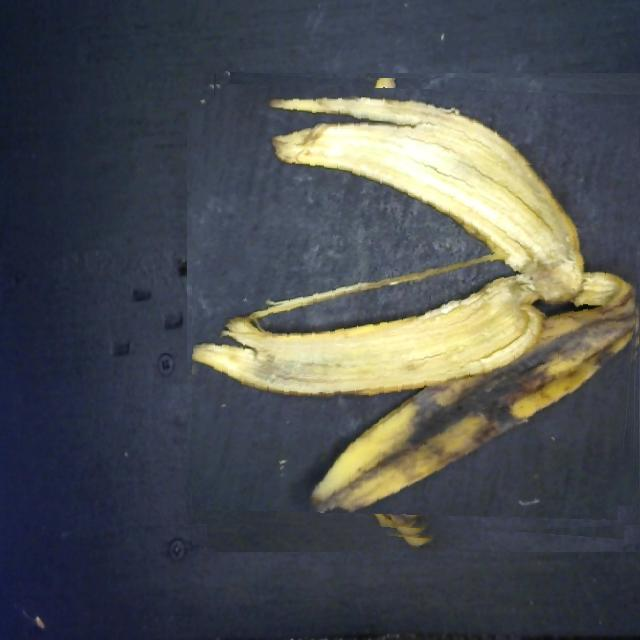biodegradable: (192, 78, 640, 545)
